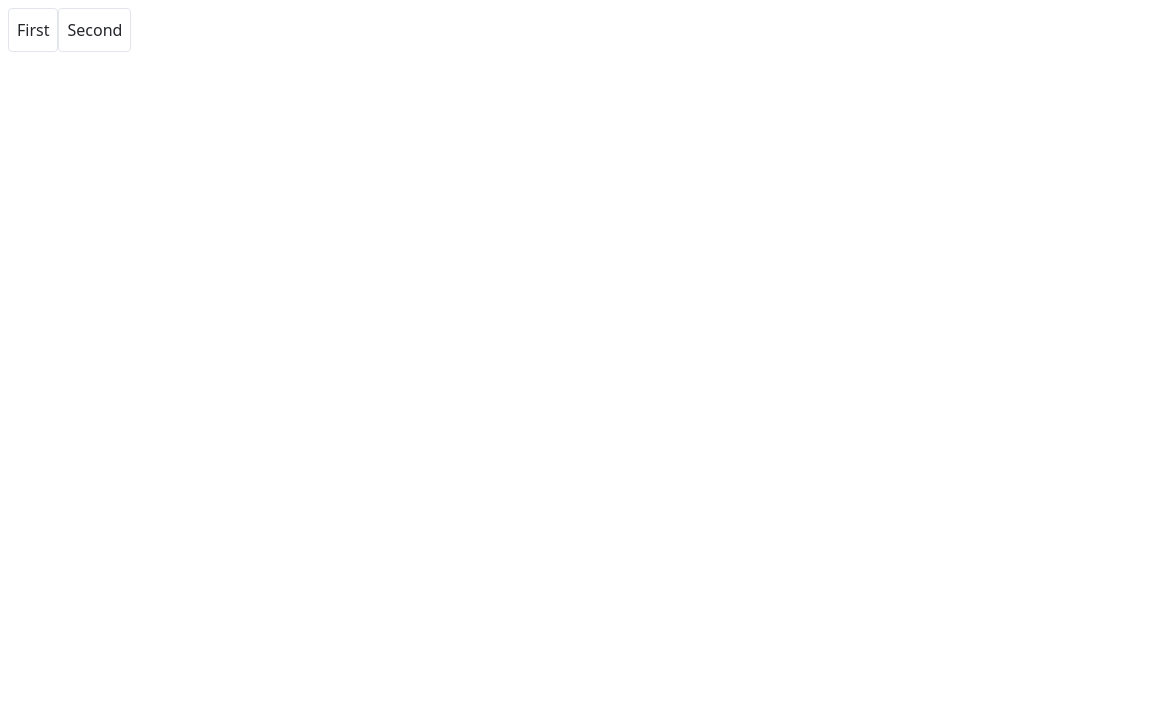
it: CloudMarkup visual foundation › keeps only one transient popover open at a time
Step 1. Click the button with aria-label "Open first menu" → (33, 30), box [8, 8, 58, 52]
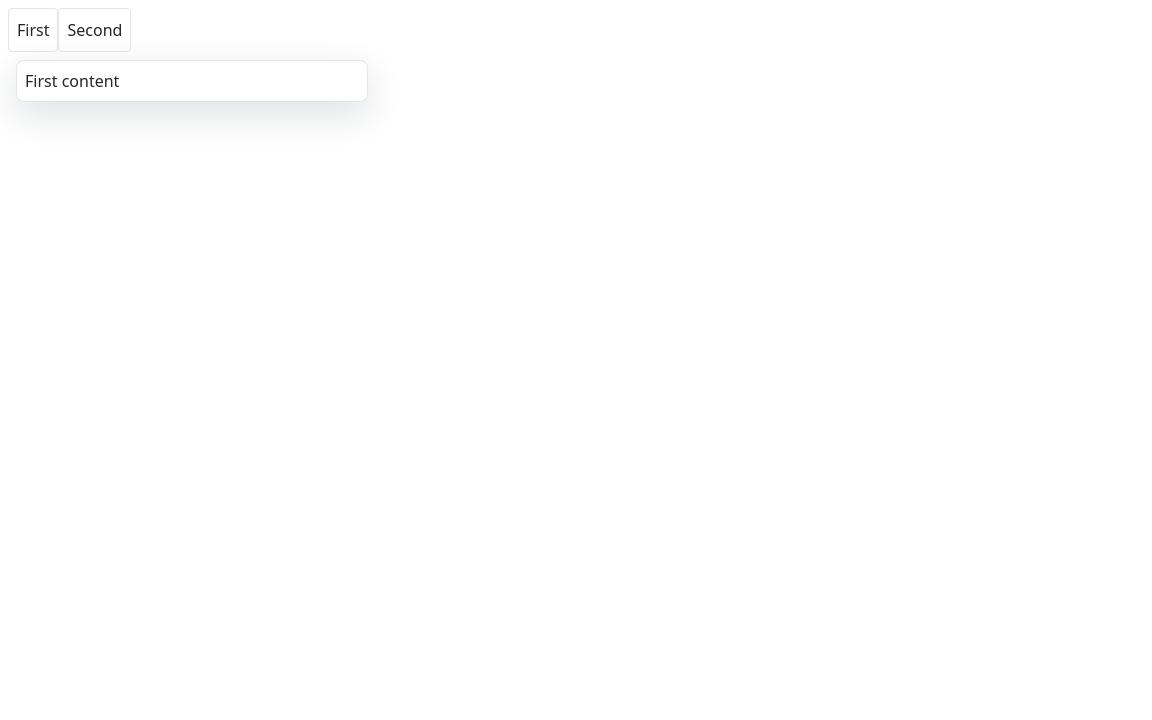
Expected: the dialog named "First menu" is shown, [16, 60, 368, 102]
Step 2. Click the button with aria-label "Open second menu" → (95, 30), box [58, 8, 131, 52]
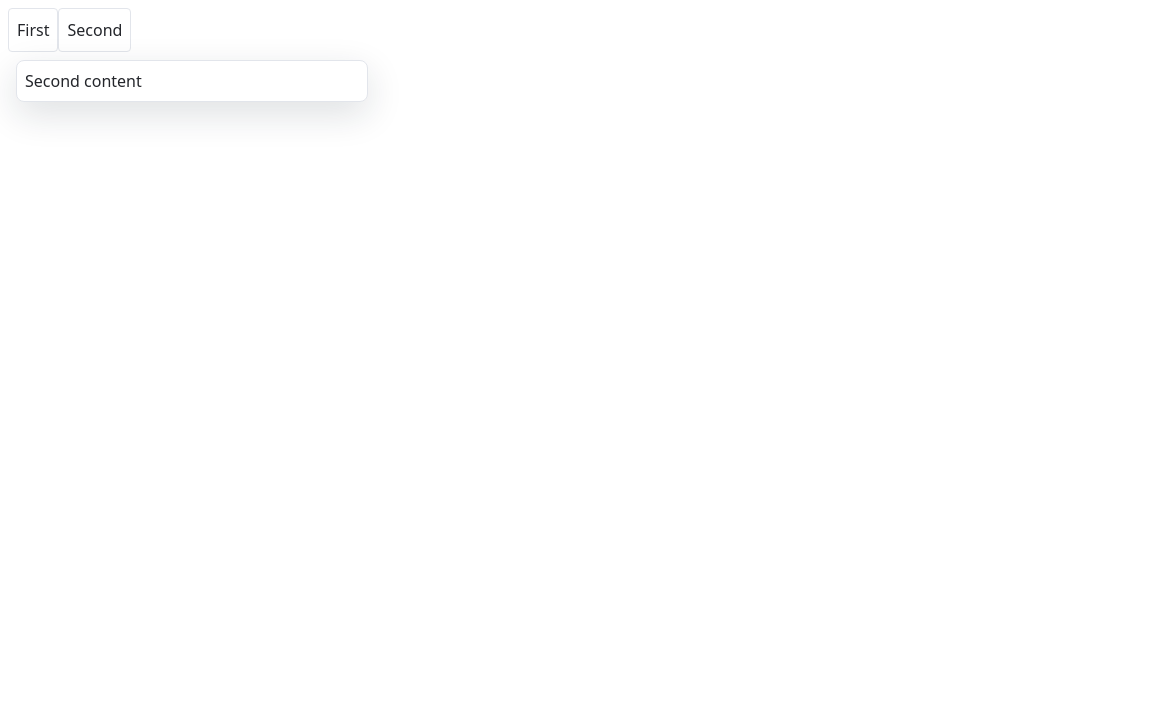
Expected: the dialog named "Second menu" is shown, [16, 60, 368, 102]
